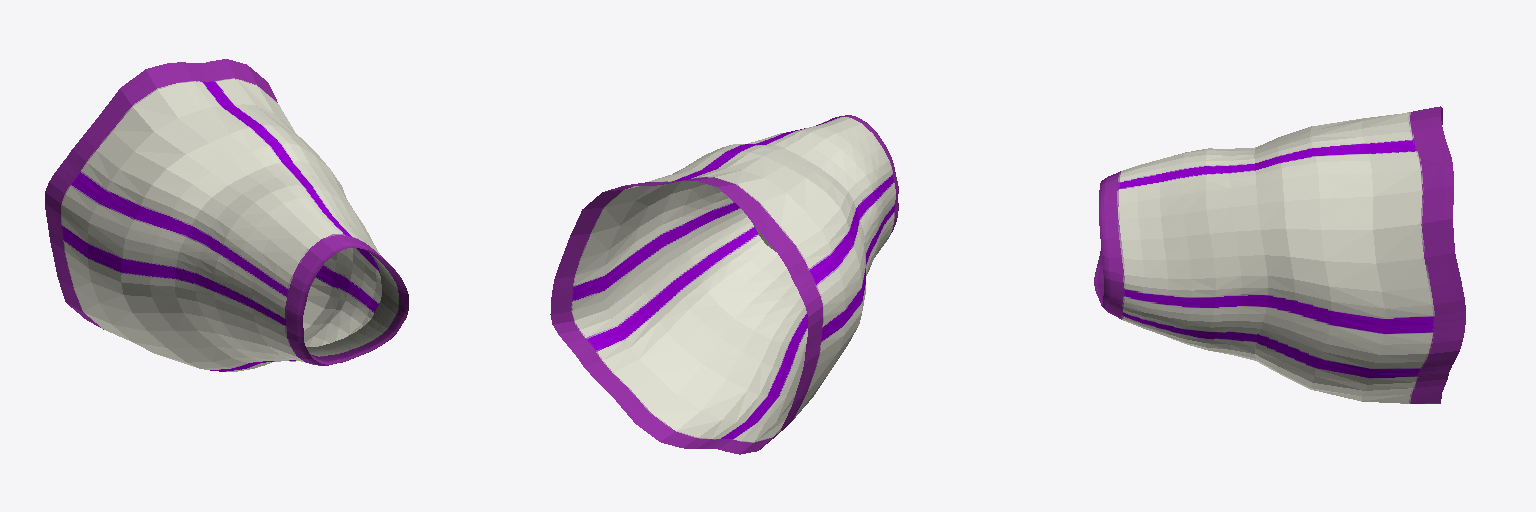
3 renders of one model, left to right at view 1: azimuth 30°, elevation 25°; view 2: azimuth 150°, elevation 25°; view 3: azimuth 270°, elevation 25°, orthographic.
Visible parts, largest first — view 1: Sphere001; view 2: Sphere001; view 3: Sphere001.
Part boxes in pixels (x1,y1,x2,y2): Sphere001: (45, 59, 408, 371); Sphere001: (550, 115, 898, 454); Sphere001: (1094, 106, 1465, 403).
Bounding box in the file's own units: 34.52 × 35.62 × 44.16.
Materials: 1 (1 with a texture image).